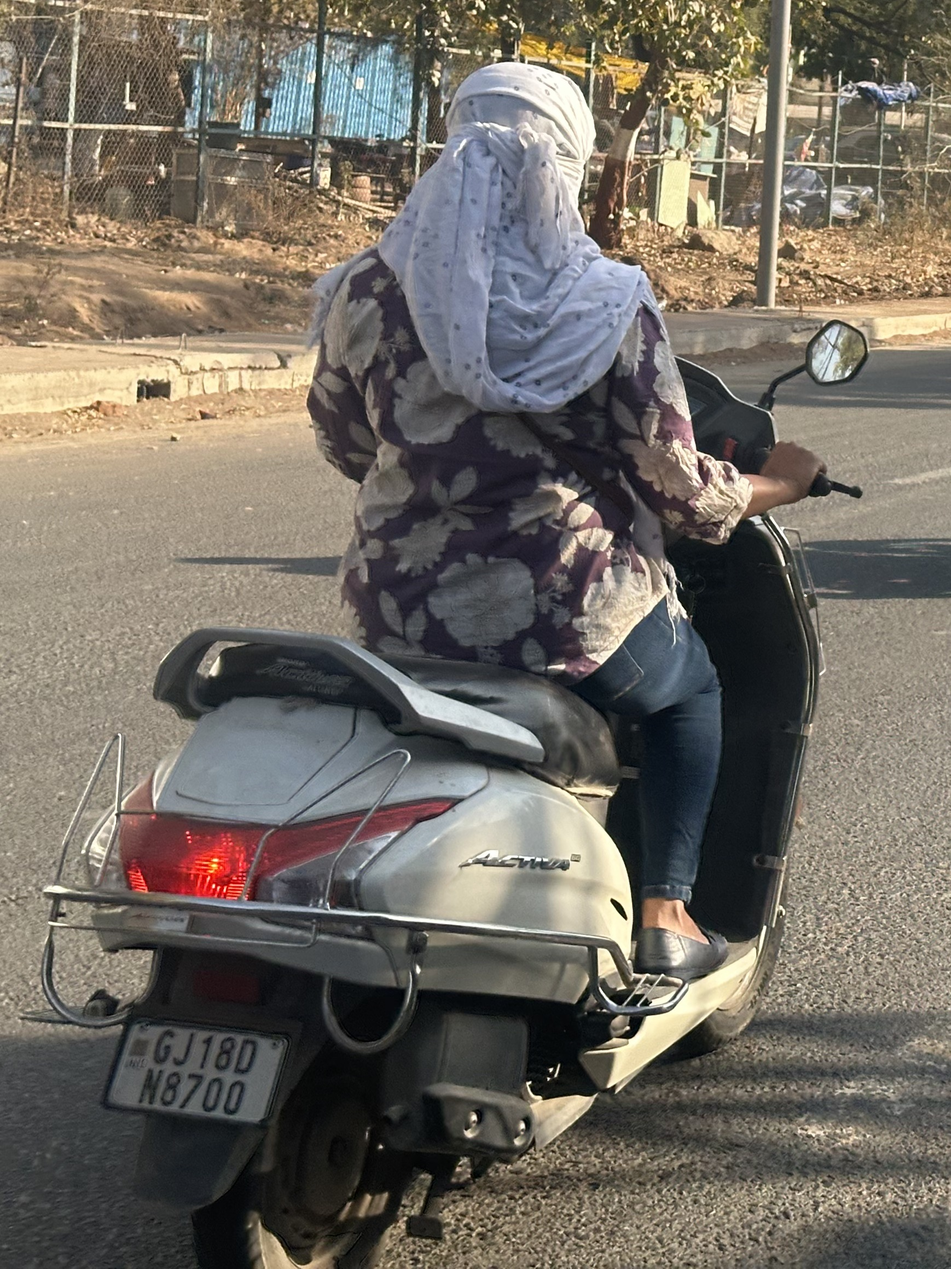BikeWithRider: (15, 47, 886, 1267)
NoHelmet: (415, 50, 616, 293)
